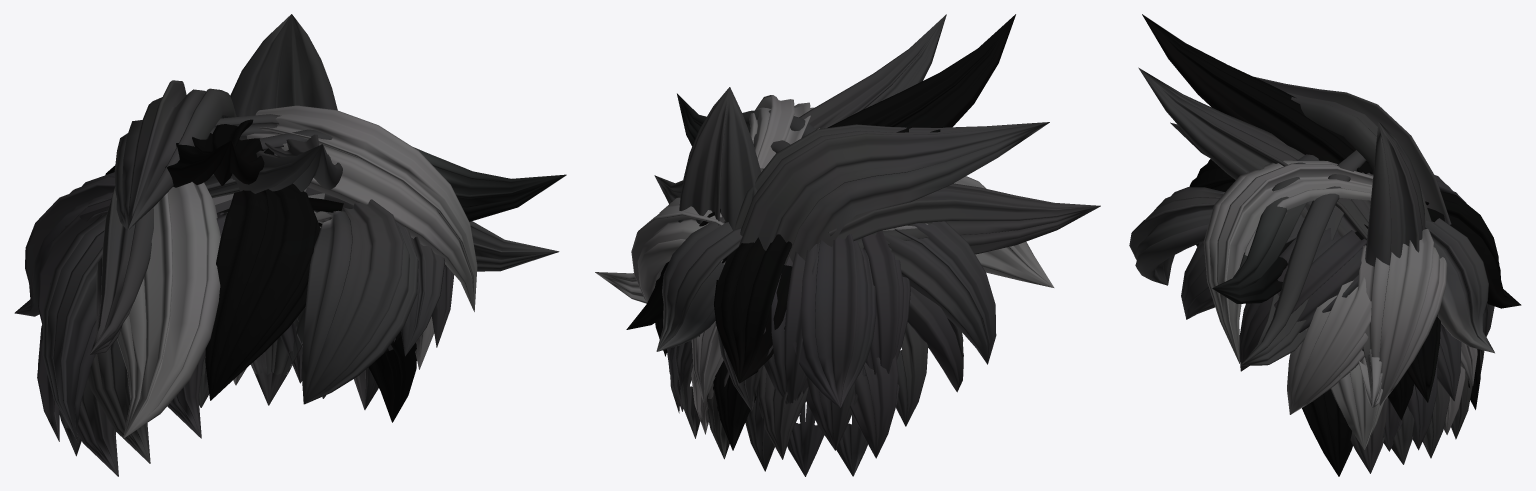
File: Cyber Grey Hair.glb
3 views of the same model, side by side, from view 1: azimuth 30°, elevation 25°; view 2: azimuth 150°, elevation 25°; view 3: azimuth 270°, elevation 25° (orthographic). The views are drawn at different scales.
Visible parts, largest first — view 1: Hair; view 2: Hair; view 3: Hair.
Part boxes in pixels (x1,y1,x2,y2): Hair: (14, 14, 566, 476); Hair: (595, 14, 1100, 476); Hair: (1129, 14, 1521, 476).
Size of the model in its own units: 0.4518 by 0.3805 by 0.3752.
1 material, 1 textured.
